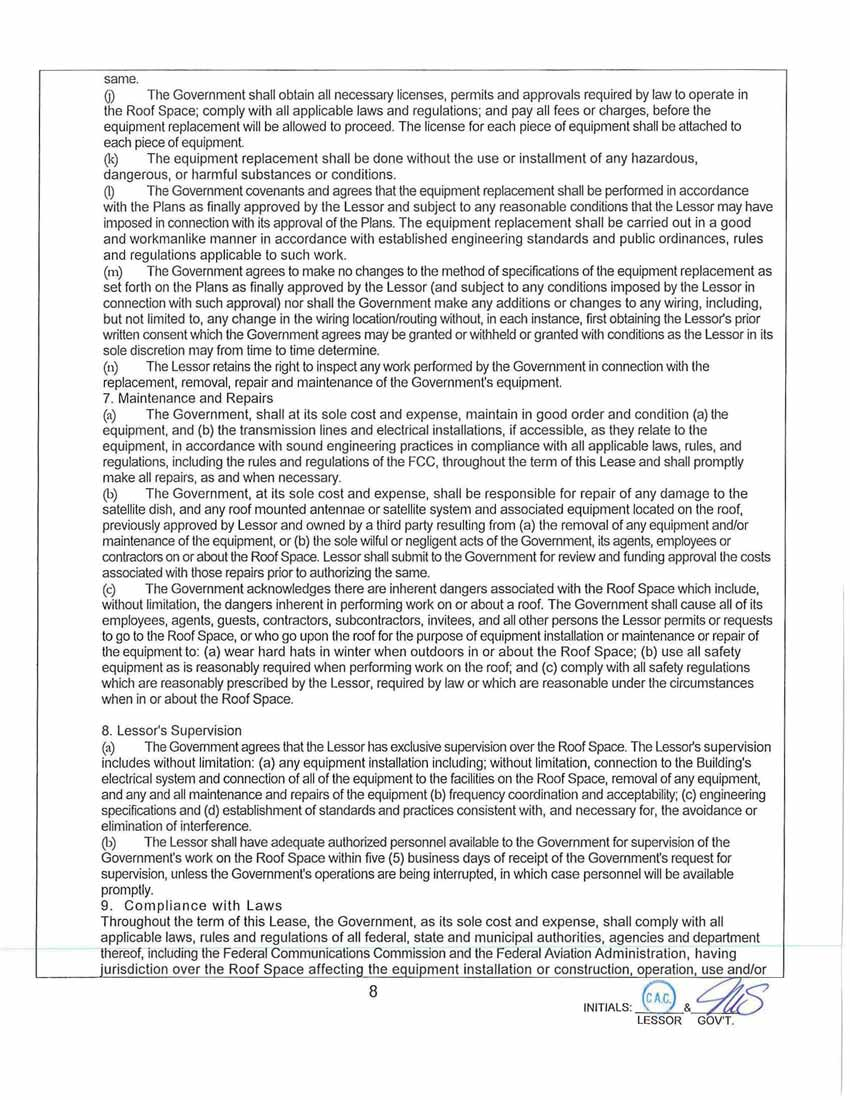handwritten: (692, 973, 771, 1014)
